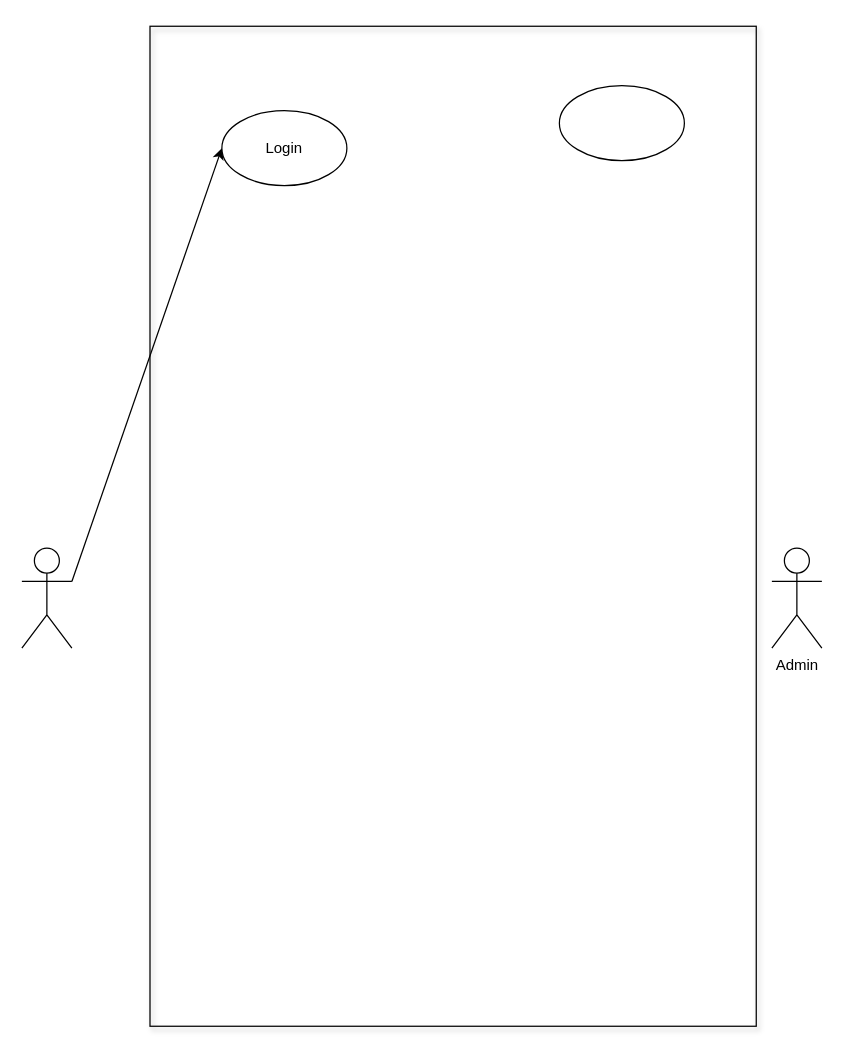
The diagram is 844 pixels wide and 1056 high, and some of its shapes have lost their labels. The shapes that lost their labels are listed below. From the top down, each one's centre as x and y in pixels, then its label:
pixel 621 122: Credintials
pixel 46 597: User
